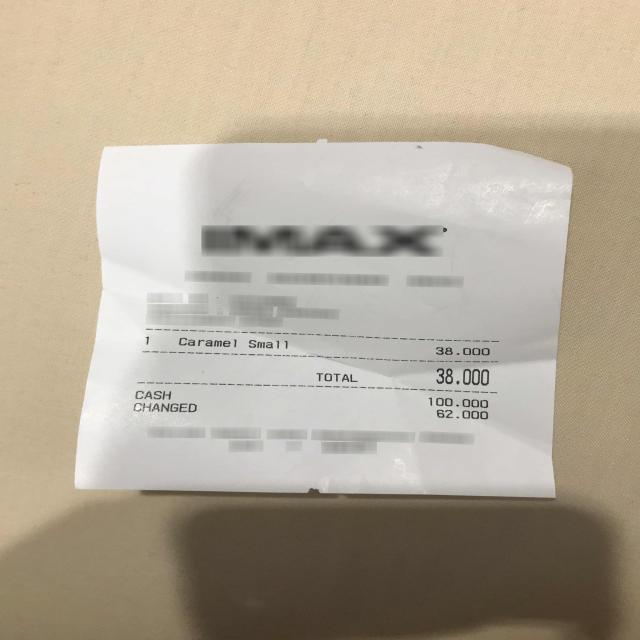kertas: (75, 135, 572, 498)
